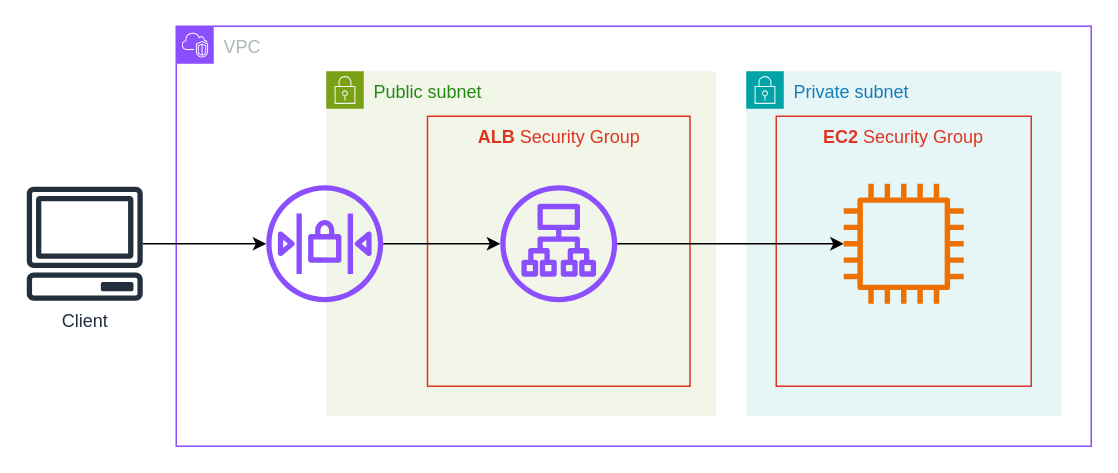
Some shapes in this 1118 by 473 pixel diagram are drawn without their labels. The centre of each missing label's shape, as x and y in pixels:
"Application Load Balancer Connection Termination" belongs at pixel 558 243.
"EC2 Instance Private IP" belongs at pixel 903 243.
"NACL" belongs at pixel 324 243.
